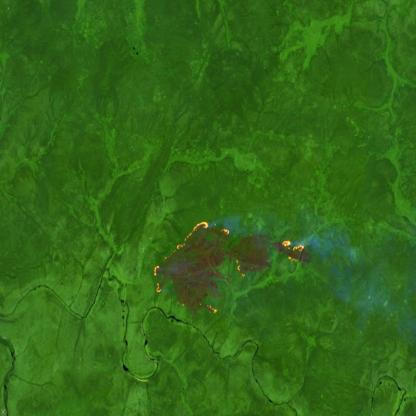fire: (152, 219, 306, 316)
